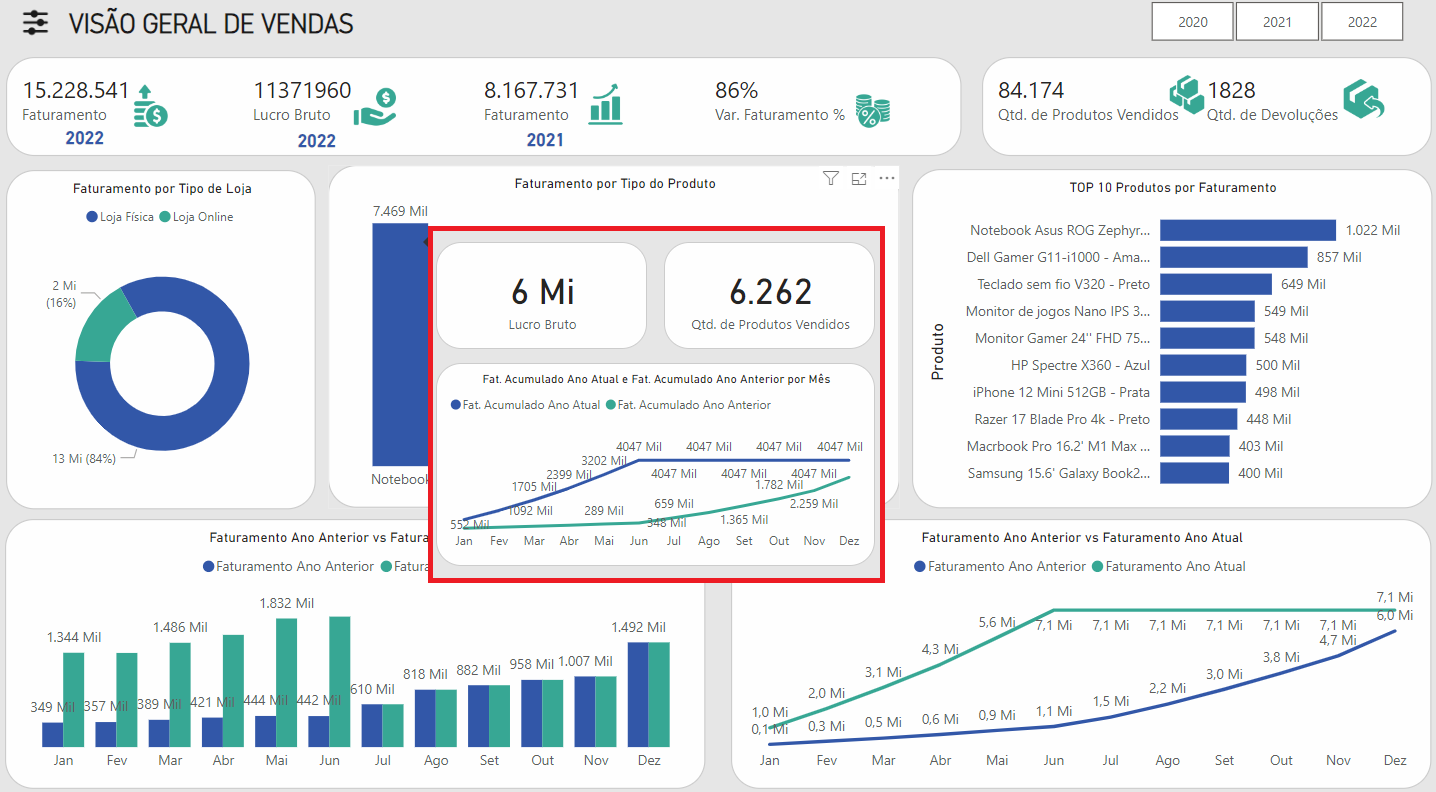

Layout of this report page (visuals, bound fields, positions):
{"tool":"powerbi","page":{"name":"Visão Geral","canvas":[1280,720],"ordinal":0},"visuals":[{"type":"multiRowCard","title":"Faturamento","fields":{"Values":["Medidas.Receita","Medidas.Lucro Bruto","Medidas.Faturamento Ano Anterior","Medidas.Variação Anual Delta %"]},"box":[16.3,64.2,839.3,87.2],"z":0},{"type":"slicer","fields":{"Values":["t_Calendario.Ano"]},"box":[996.6,8.8,271.3,48.3],"z":1000},{"type":"lineChart","title":"Faturamento Ano Anterior vs Faturamento Ano Atual ","fields":{"Category":["t_Calendario.Mês Abreviado"],"Y":["Medidas.Receita Acumulada Período Anterior","Medidas.Receita Acumulada Período Atual"]},"box":[653.7,470,614.9,237.3],"z":2000},{"type":"barChart","title":"TOP 10 Produtos por Faturamento","fields":{"Category":["d_Produtos.Produto"],"Y":["Medidas.Receita"]},"box":[811.8,162.8,456.6,298.1],"z":3000},{"type":"columnChart","fields":{"Y":["Medidas.Receita"],"Category":["d_Produtos.Tipo do Produto"]},"box":[299.6,159.3,502.4,301.4],"z":4000},{"type":"donutChart","title":"Faturamento por Tipo de Loja","fields":{"Y":["Medidas.Receita"],"Category":["d_Lojas.Tipo"]},"box":[16.3,162.9,272.5,297.8],"z":5000},{"type":"clusteredColumnChart","title":"Faturamento Ano Anterior vs Faturamento Atual","fields":{"Y":["Medidas.Receita Ano Anterior","Medidas.Receita"],"Category":["t_Calendario.Mês Abreviado"]},"box":[16,470,614.9,237.3],"z":6000},{"type":"card","fields":{"Values":["Medidas.Ano Atual"]},"box":[51.8,120.5,67.6,30.7],"z":7000},{"type":"card","fields":{"Values":["Medidas.Ano Anterior"]},"box":[457,121.7,68,30.7],"z":8000},{"type":"multiRowCard","title":"Faturamento","fields":{"Values":["Medidas.Quantidade de Vendas","Medidas.Quantidade de Devoluções"]},"box":[873.8,64.2,394.7,87.2],"z":9000},{"type":"image","box":[119.8,83.4,49.8,46.9],"z":10000},{"type":"image","box":[316.2,84.3,49.8,46.9],"z":11000},{"type":"image","box":[518.3,82.4,49.8,46],"z":12000},{"type":"image","box":[1028,73.8,50.8,46.9],"z":13000},{"type":"image","box":[1183.2,77.6,50.8,46.9],"z":14000},{"type":"image","box":[753.1,86.2,48.9,51.7],"z":15000},{"type":"card","fields":{"Values":["Medidas.Ano Atual"]},"box":[255.8,122.6,68,30.7],"z":16000},{"type":"textbox","box":[60.2,15.9,272.7,41.2],"z":17000},{"type":"image","box":[24.3,15.9,35.9,35.9],"z":18000},{"type":"actionButton","box":[15.7,12.8,53,40.3],"z":19000}]}

Visuals, with their boxes in screenshot pixels (x1, y1, x2, y2), scaled from the page's 1280x720 canvas onto the 1436x792 screenshot:
"Faturamento" multiRowCard: crop(18, 71, 960, 167)
slicer - t_Calendario.Ano: crop(1118, 10, 1422, 63)
"Faturamento Ano Anterior vs Faturamento Ano Atual " lineChart: crop(733, 517, 1423, 778)
"TOP 10 Produtos por Faturamento" barChart: crop(911, 179, 1423, 507)
columnChart - Medidas.Receita x d_Produtos.Tipo do Produto: crop(336, 175, 900, 507)
"Faturamento por Tipo de Loja" donutChart: crop(18, 179, 324, 507)
"Faturamento Ano Anterior vs Faturamento Atual" clusteredColumnChart: crop(18, 517, 708, 778)
card - Medidas.Ano Atual: crop(58, 133, 134, 166)
card - Medidas.Ano Anterior: crop(513, 134, 589, 168)
"Faturamento" multiRowCard: crop(980, 71, 1423, 167)
image: crop(134, 92, 190, 143)
image: crop(355, 93, 411, 144)
image: crop(581, 91, 637, 141)
image: crop(1153, 81, 1210, 133)
image: crop(1327, 85, 1384, 137)
image: crop(845, 95, 900, 152)
card - Medidas.Ano Atual: crop(287, 135, 363, 169)
textbox: crop(68, 17, 373, 63)
image: crop(27, 17, 68, 57)
actionButton: crop(18, 14, 77, 58)
